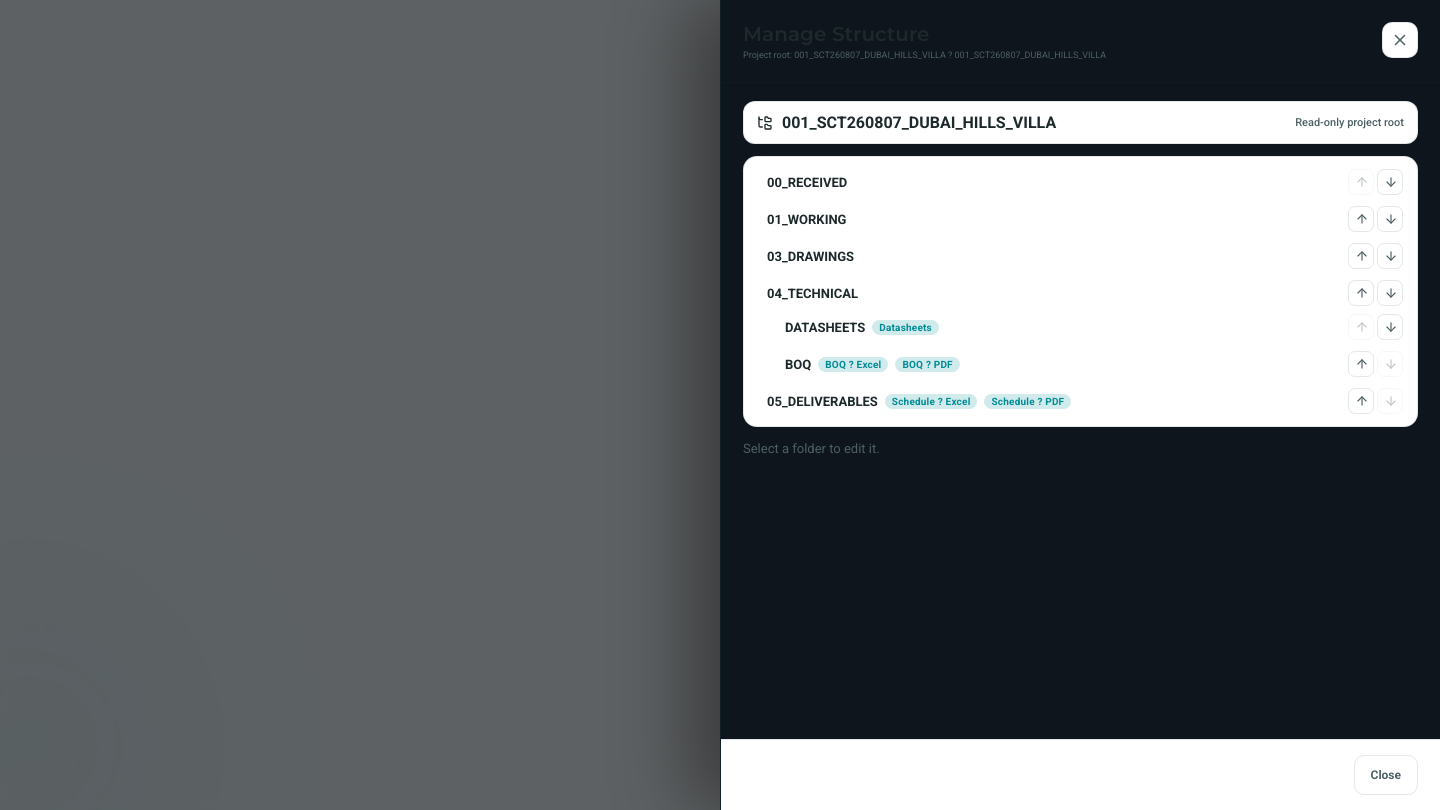
Test case: ManageStructureDrawer › only enables Delete Empty after the server preview confirms the folder is empty
Click the button "00_RECEIVED".
click(807, 182)  # box [760,170,1342,194]
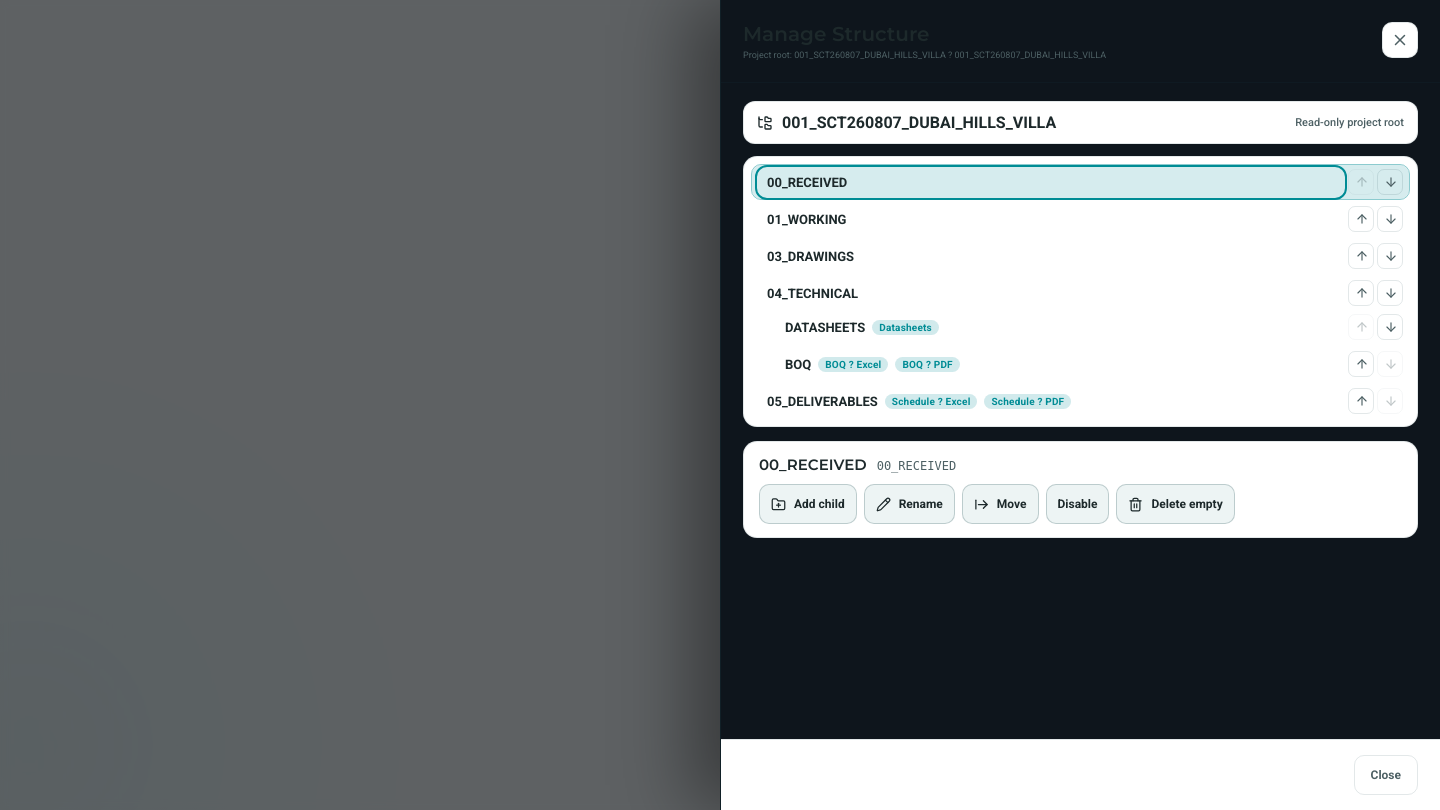
Click the button "Delete empty".
click(1176, 504)  # box [1116,484,1235,524]
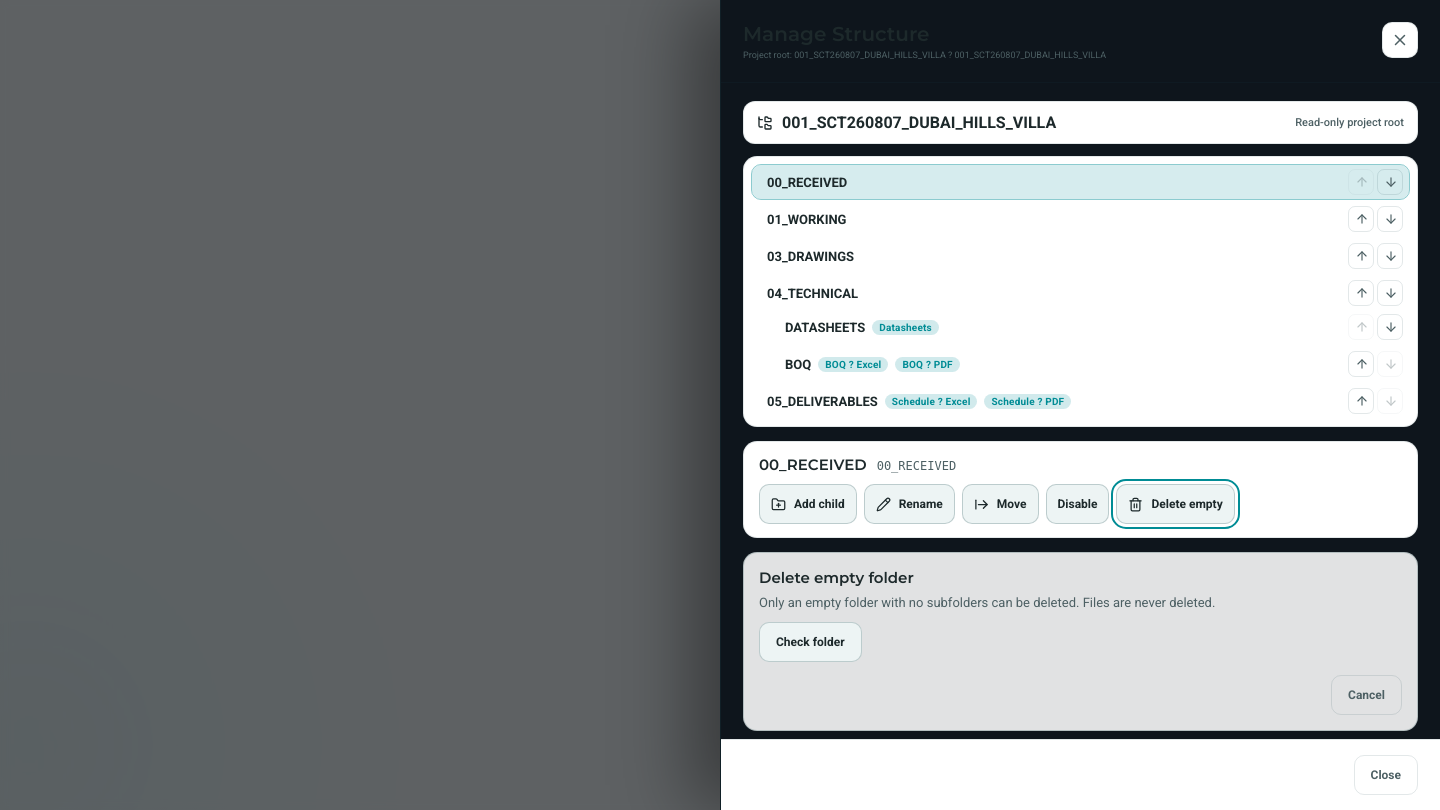
Click the button "Check folder".
click(810, 642)  # box [759,622,862,662]
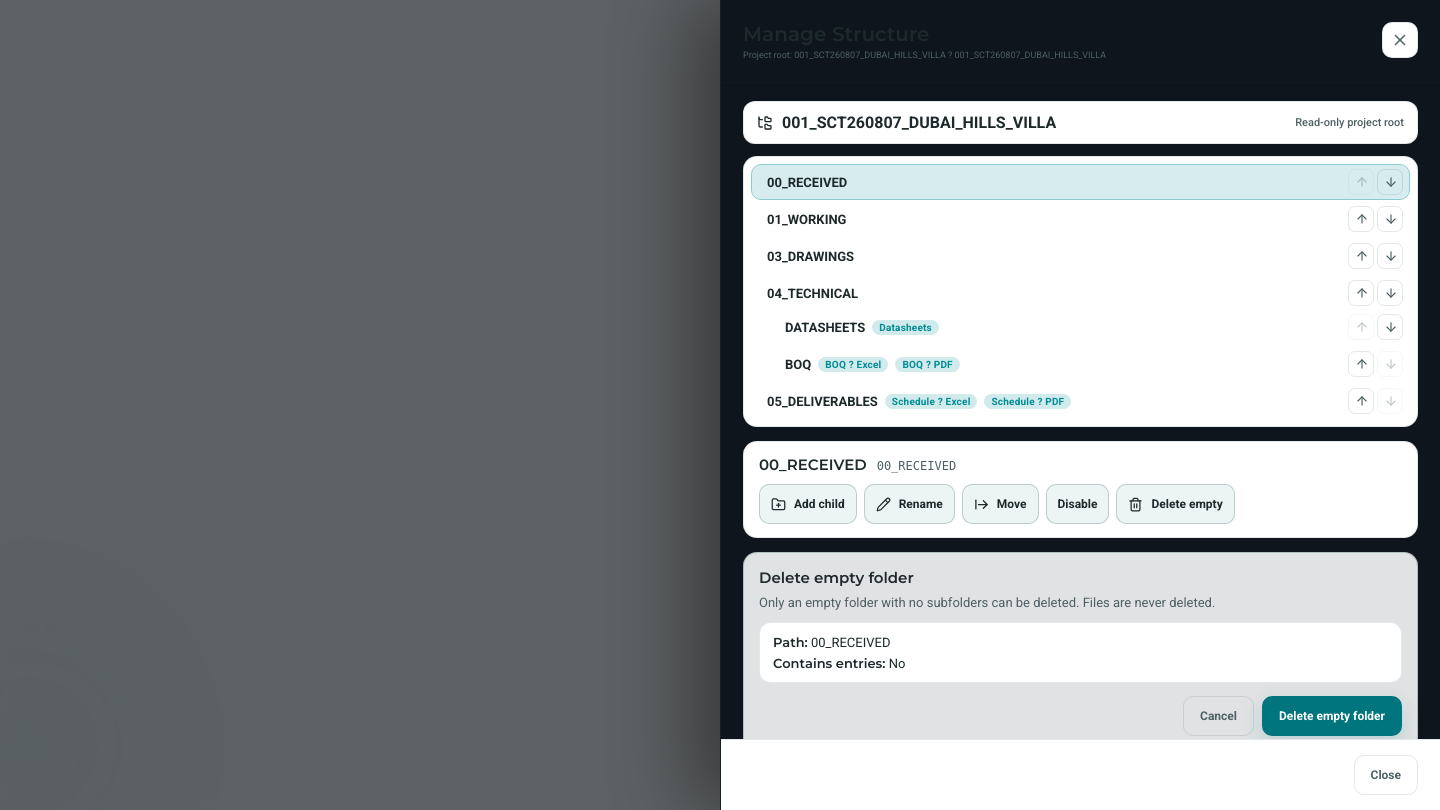
expect the button "Delete empty folder" is shown: met, box [1262,696,1402,736]
